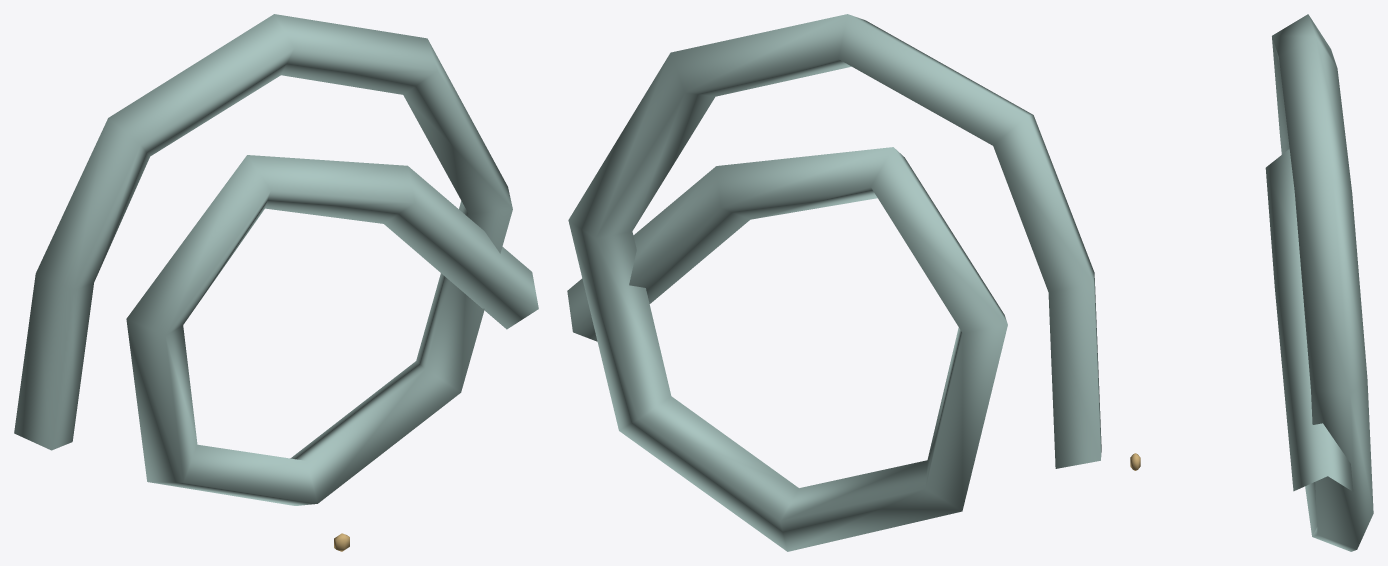
3 views of the same model, side by side, from view 1: azimuth 30°, elevation 25°; view 2: azimuth 150°, elevation 25°; view 3: azimuth 270°, elevation 25° (orthographic). The views are drawn at different scales.
Visible parts, largest first — view 1: g_s12; view 2: g_s12; view 3: g_s12.
Part boxes in pixels (left/top/right/bottom): g_s12: left=14, top=14, right=538, bottom=551; g_s12: left=567, top=14, right=1101, bottom=551; g_s12: left=1130, top=14, right=1373, bottom=551.
Bounding box in the file's own units: 0.4894 × 0.4665 × 0.207.
